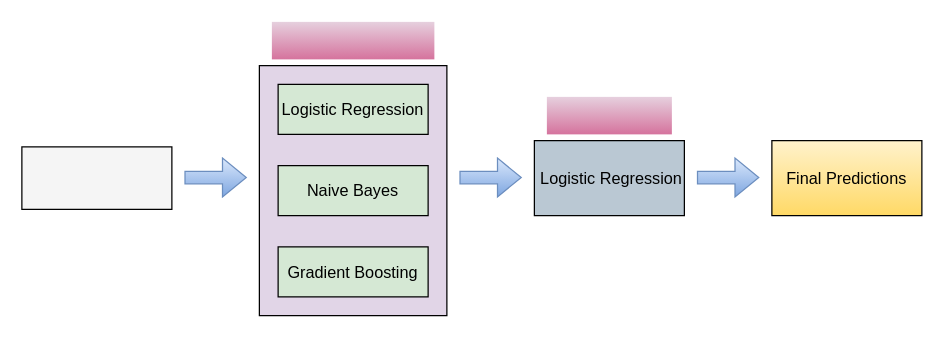
The diagram is 944 pixels wide and 338 high, and some of its shapes have lost their labels. The shapes that lost their labels are listed below. From the top down, each one's centre as x and y in pixels, then its label:
At point (352, 40): "Baseline Learner with Optimisation".
At point (608, 115): "Meta Learner".
At point (96, 177): "Training Data".
